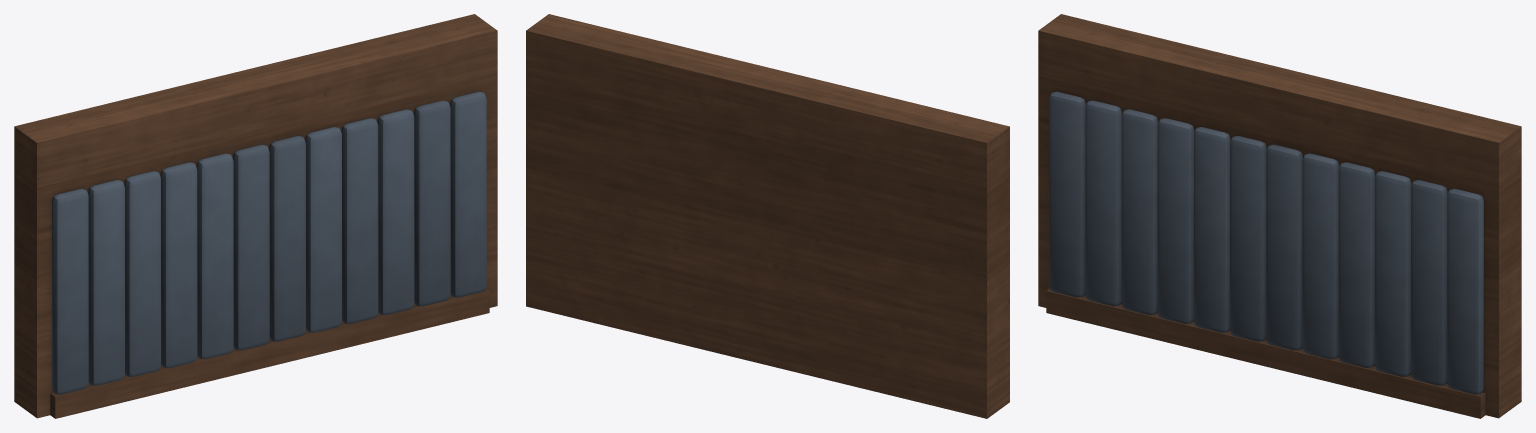
File: H_HeadboardWall.fbx
3 renders of one model, left to right at view 1: azimuth 30°, elevation 25°; view 2: azimuth 150°, elevation 25°; view 3: azimuth 330°, elevation 25°, orthographic.
Parts seen in each view (by area): view 1: H_HeadboardWall; view 2: H_HeadboardWall; view 3: H_HeadboardWall.
Boxes of the visible parts, x1,y1,x2,y2 form: H_HeadboardWall: (14,14,497,418); H_HeadboardWall: (526,14,1009,418); H_HeadboardWall: (1038,14,1521,418).
Bounding box in the file's own units: 1400 × 800 × 150.
Materials: 1 (1 with a texture image).
